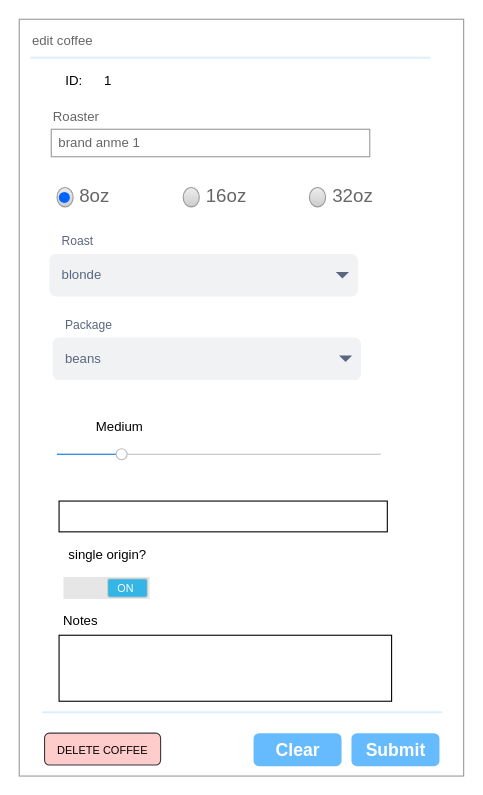
This 483x795 diagram has some shape labels left out. The centre of each missing label's shape, as x and y in pixels:
"Costa rica" belongs at [222,516].
"origin" belongs at [148,488].
"Tastes great" belongs at [225,667].
